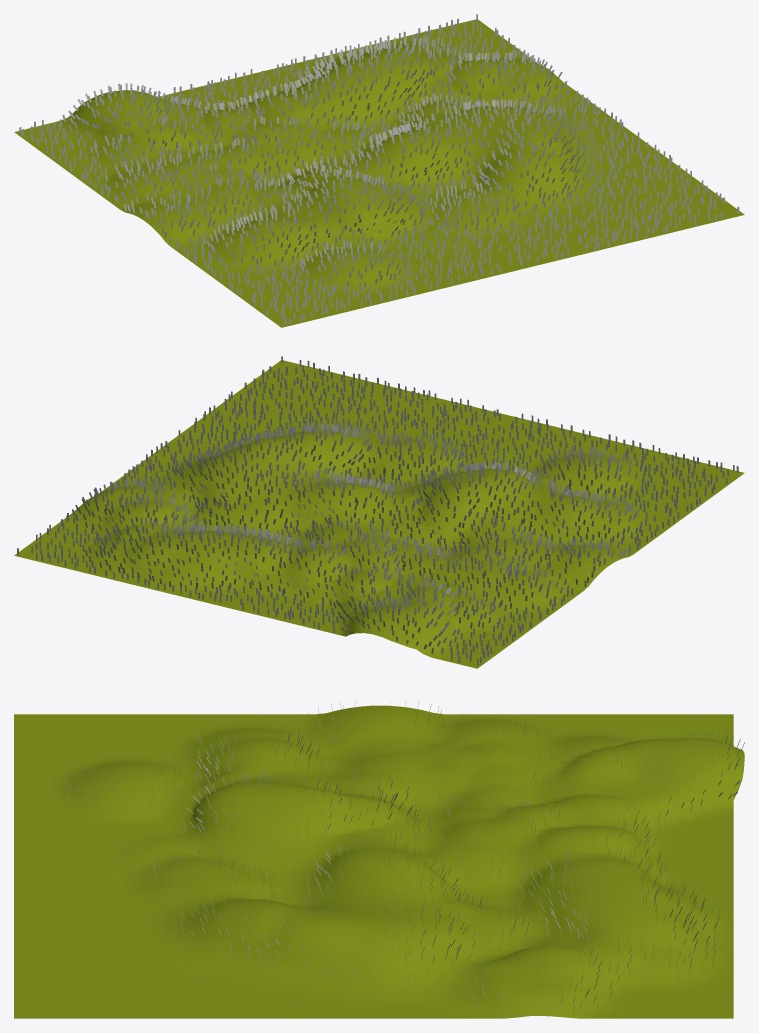
File: WG_BASEBG_Floor 1.fbx
The picture shows the model from 3 angles, top to bottom: view 1: azimuth 30°, elevation 25°; view 2: azimuth 150°, elevation 25°; view 3: azimuth 270°, elevation 25°; orthographic projection. The views are drawn at different scales.
Visible parts, largest first — view 1: EarthModel, GrassModel; view 2: EarthModel, GrassModel; view 3: EarthModel, GrassModel.
Boxes of the visible parts, x1,y1,x2,y2 form: EarthModel: (14,19,744,327); GrassModel: (19,14,739,325); EarthModel: (14,360,744,668); GrassModel: (17,356,738,665); EarthModel: (14,705,744,1018); GrassModel: (59,700,744,1014).
Bounding box in the file's own units: 30.15 × 1.88 × 30.48.
